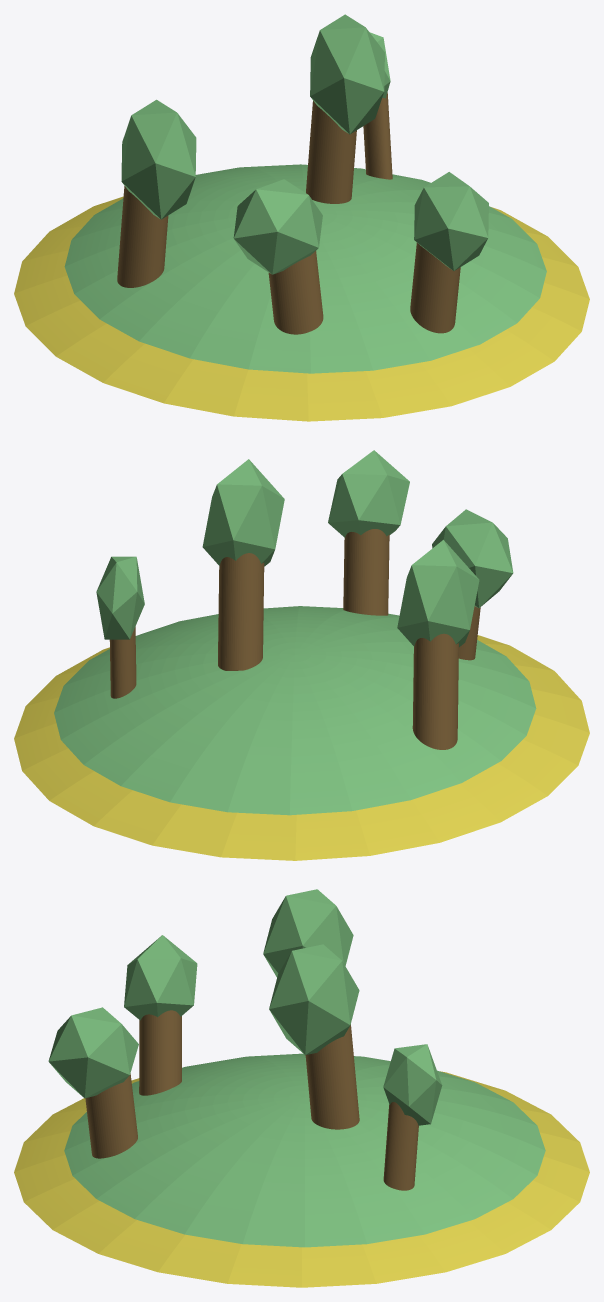
The model's file is Island.glb.
The picture shows the model from 3 angles, top to bottom: view 1: azimuth 30°, elevation 25°; view 2: azimuth 150°, elevation 25°; view 3: azimuth 270°, elevation 25°; orthographic projection. The views are drawn at different scales.
Visible parts, largest first — view 1: Mesh_Mesh_head_geo.001_lambert2SG.001; view 2: Mesh_Mesh_head_geo.001_lambert2SG.001; view 3: Mesh_Mesh_head_geo.001_lambert2SG.001.
Part boxes in pixels (<box>): Mesh_Mesh_head_geo.001_lambert2SG.001: <box>14,14,589,421</box>; Mesh_Mesh_head_geo.001_lambert2SG.001: <box>14,450,589,860</box>; Mesh_Mesh_head_geo.001_lambert2SG.001: <box>14,889,589,1287</box>.
Size of the model in its own units: 185 by 93 by 195.
